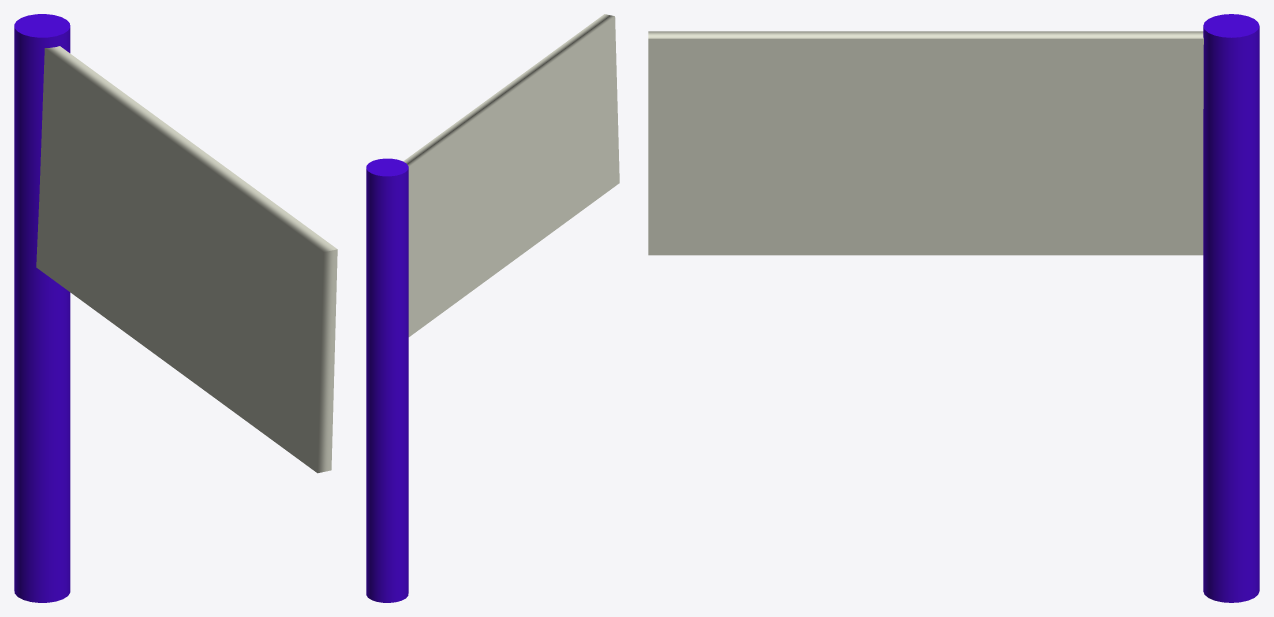
Rendered from Flag_01.fbx.
3 views of the same model, side by side, from view 1: azimuth 30°, elevation 25°; view 2: azimuth 150°, elevation 25°; view 3: azimuth 270°, elevation 25° (orthographic). The views are drawn at different scales.
Parts seen in each view (by area): view 1: pCylinder2; view 2: pCylinder2; view 3: pCylinder2.
Part boxes in pixels (x1,y1,x2,y2): pCylinder2: (14,14,337,602); pCylinder2: (366,14,619,602); pCylinder2: (648,14,1259,602).
Size of the model in its own units: 0.7316 by 8.08 by 7.92.
